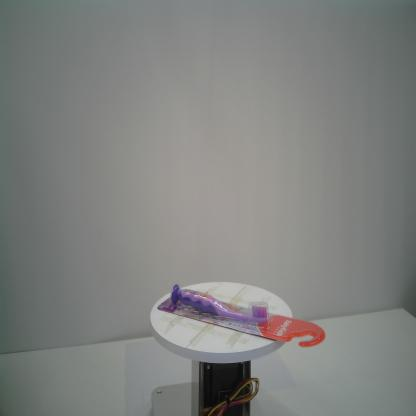Personal Hygiene: (156, 283, 326, 348)
